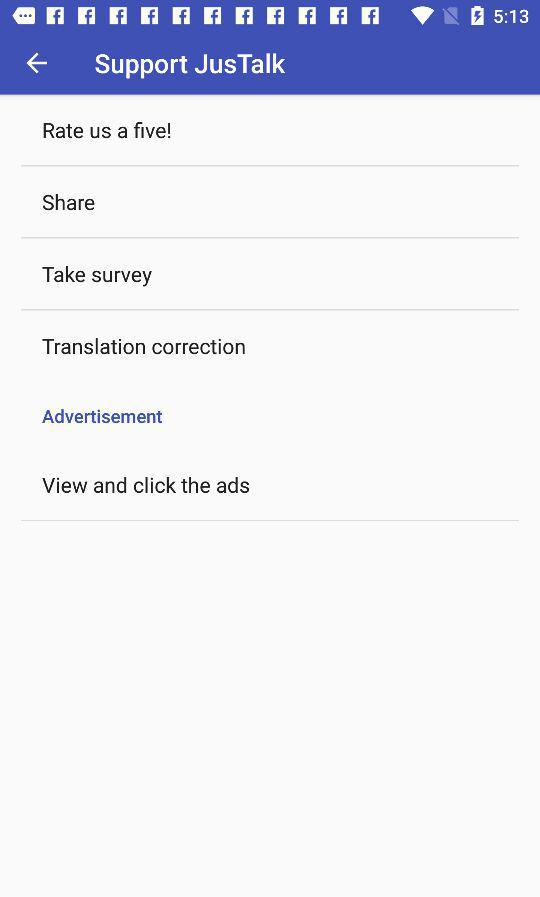Icon: (27, 52, 49, 76)
Text: (95, 53, 286, 81), (43, 476, 251, 494), (42, 339, 246, 356), (43, 266, 154, 288), (44, 122, 172, 140), (41, 408, 163, 424), (44, 194, 96, 212)
Toolbar: (1, 33, 540, 95)
UpperTaskBar: (1, 1, 540, 27)
